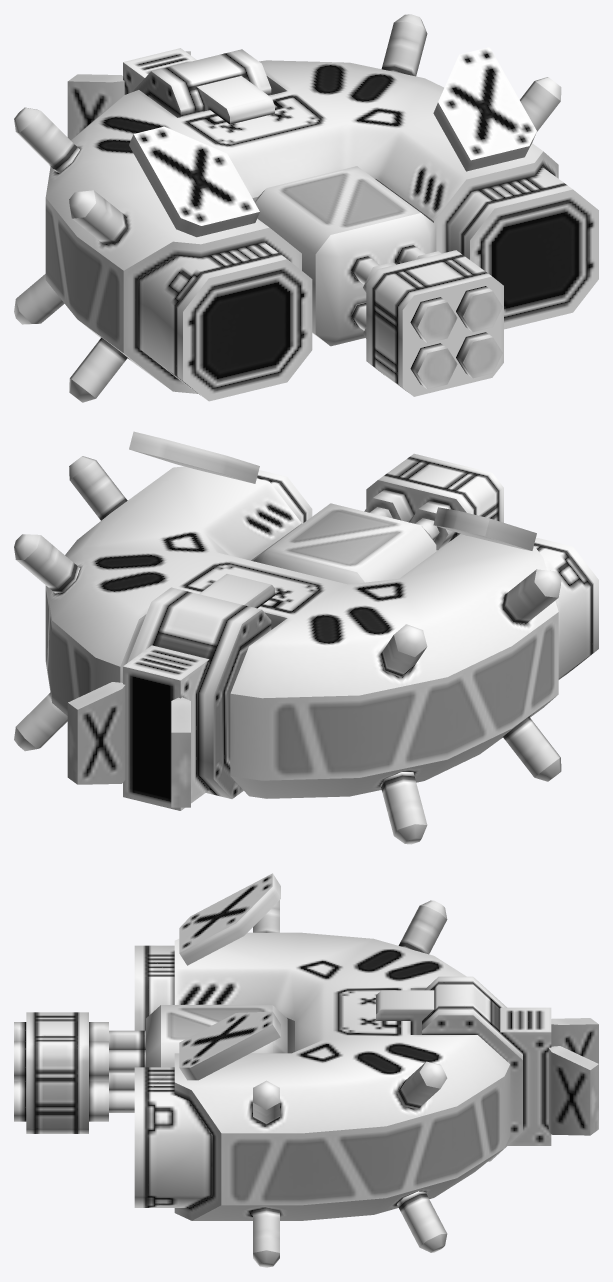
The model's file is Enemy_Flak.FBX.
3 renders of one model, top to bottom at view 1: azimuth 30°, elevation 25°; view 2: azimuth 150°, elevation 25°; view 3: azimuth 270°, elevation 25°, orthographic. The views are drawn at different scales.
Parts seen in each view (by area): view 1: Enemy_Flak, Enemy_Flak_UP_Gun, Enemy_Flak_UP_Armor, Enemy_Flak_UP_Speed; view 2: Enemy_Flak, Enemy_Flak_UP_Gun, Enemy_Flak_UP_Speed, Enemy_Flak_UP_Armor; view 3: Enemy_Flak, Enemy_Flak_UP_Gun, Enemy_Flak_UP_Armor, Enemy_Flak_UP_Speed.
Part boxes in pixels (x1,y1,x2,y2): Enemy_Flak: (14, 14, 561, 402); Enemy_Flak_UP_Gun: (138, 167, 598, 401); Enemy_Flak_UP_Armor: (129, 47, 536, 237); Enemy_Flak_UP_Speed: (67, 51, 190, 140); Enemy_Flak: (14, 456, 561, 844); Enemy_Flak_UP_Gun: (257, 453, 598, 679); Enemy_Flak_UP_Speed: (67, 682, 190, 807); Enemy_Flak_UP_Armor: (129, 431, 536, 550); Enemy_Flak: (14, 900, 551, 1267); Enemy_Flak_UP_Gun: (26, 945, 212, 1207); Enemy_Flak_UP_Armor: (179, 873, 280, 1080); Enemy_Flak_UP_Speed: (548, 1018, 598, 1135).
Size of the model in its own units: 197 by 97.66 by 233.
